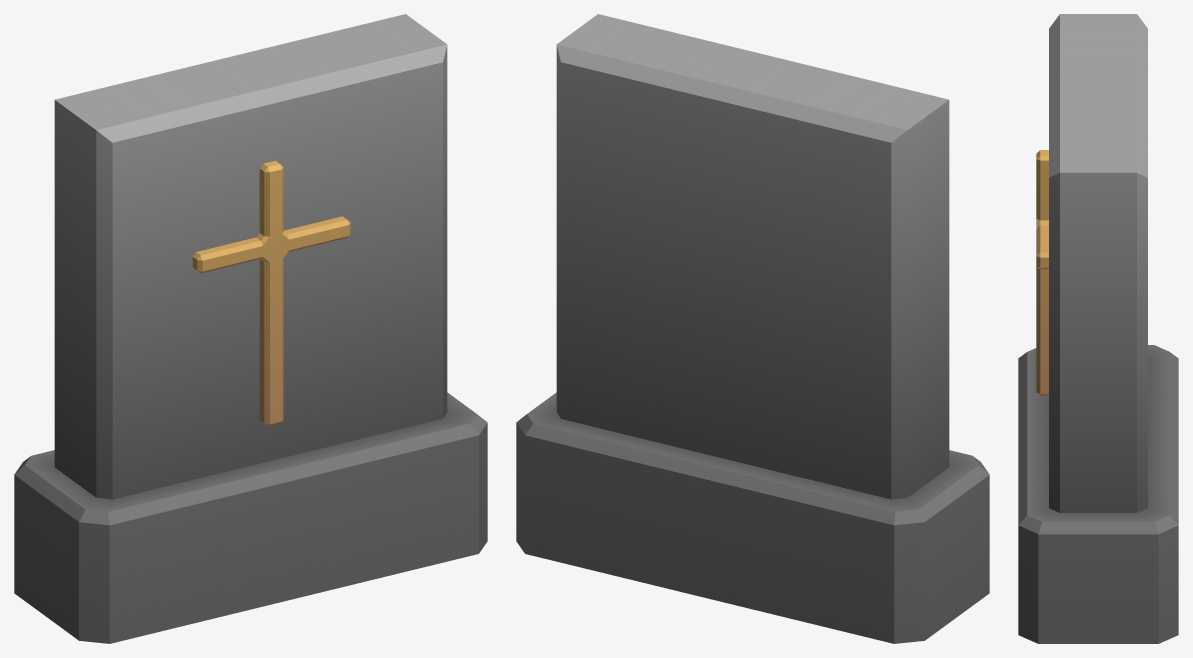
File: Tombstone6.fbx
The picture shows the model from 3 angles, left to right: view 1: azimuth 30°, elevation 25°; view 2: azimuth 150°, elevation 25°; view 3: azimuth 270°, elevation 25°; orthographic projection. The views are drawn at different scales.
Parts seen in each view (by area): view 1: Tombstone6; view 2: Tombstone6; view 3: Tombstone6.
Boxes of the visible parts, <box> form: Tombstone6: <box>14,14,487,643</box>; Tombstone6: <box>516,14,989,643</box>; Tombstone6: <box>1018,14,1178,643</box>.
Bounding box in the file's own units: 1.16 × 1.35 × 0.4277.
1 material, 1 textured.
